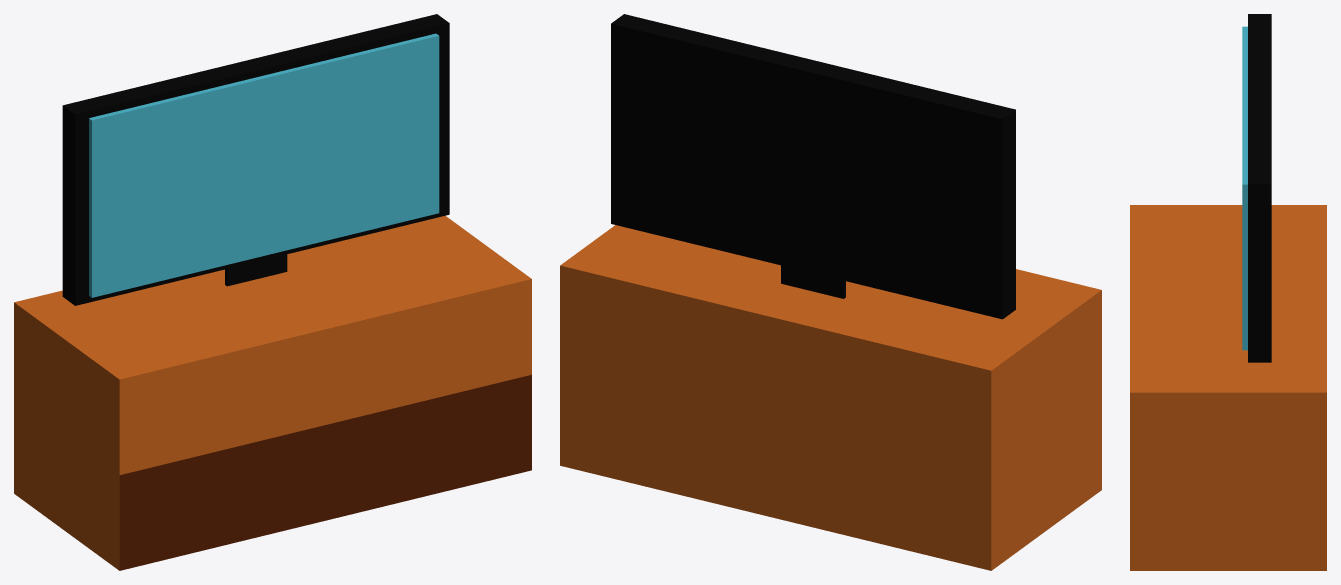
The picture shows the model from 3 angles, left to right: view 1: azimuth 30°, elevation 25°; view 2: azimuth 150°, elevation 25°; view 3: azimuth 270°, elevation 25°; orthographic projection. The views are drawn at different scales.
Visible parts, largest first — view 1: Cube, Cube.002, Cube.001, Cube.003; view 2: Cube, Cube.001, Cube.003; view 3: Cube, Cube.001, Cube.002.
Part boxes in pixels (bbox=[...]): Cube: bbox=[14, 215, 531, 570]; Cube.002: bbox=[89, 33, 439, 297]; Cube.001: bbox=[62, 14, 449, 305]; Cube.003: bbox=[225, 254, 287, 286]; Cube: bbox=[560, 225, 1101, 570]; Cube.001: bbox=[611, 14, 1015, 319]; Cube.003: bbox=[781, 265, 845, 298]; Cube: bbox=[1130, 205, 1326, 570]; Cube.001: bbox=[1248, 14, 1271, 362]; Cube.002: bbox=[1242, 26, 1247, 350].
Size of the model in its own units: 4.51 by 4.24 by 2.
